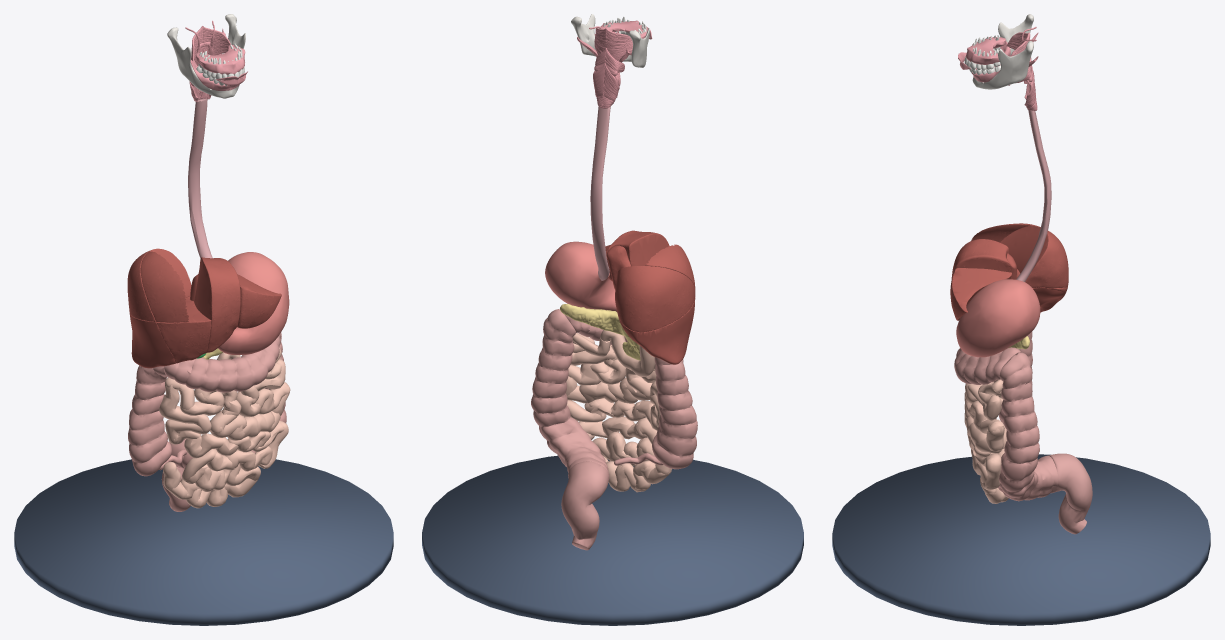
Rendered from DigestiveSystemFull.fbx.
3 views of the same model, side by side, from view 1: azimuth 30°, elevation 25°; view 2: azimuth 150°, elevation 25°; view 3: azimuth 270°, elevation 25° (orthographic).
Parts seen in each view (by area): view 1: Studio_Pedestal, Organ_Small_Intestine, Organ_Liver_Pancreas, Organ_Large_Intestine, Organ_Mouth_Esophagus, Organ_Stomach; view 2: Studio_Pedestal, Organ_Large_Intestine, Organ_Small_Intestine, Organ_Liver_Pancreas, Organ_Mouth_Esophagus, Organ_Stomach; view 3: Studio_Pedestal, Organ_Large_Intestine, Organ_Liver_Pancreas, Organ_Mouth_Esophagus, Organ_Stomach, Organ_Small_Intestine.
Part boxes in pixels (x1,y1,x2,y2): Studio_Pedestal: (14,459,393,625); Organ_Small_Intestine: (159,348,290,508); Organ_Liver_Pancreas: (127,248,281,368); Organ_Large_Intestine: (128,332,286,511); Organ_Mouth_Esophagus: (167,14,247,258); Organ_Stomach: (218,252,289,354); Studio_Pedestal: (422,455,803,625); Organ_Large_Intestine: (531,309,697,550); Organ_Small_Intestine: (566,330,671,492); Organ_Liver_Pancreas: (560,230,695,364); Organ_Mouth_Esophagus: (571,14,652,280); Organ_Stomach: (545,241,616,311); Studio_Pedestal: (832,454,1210,625); Organ_Large_Intestine: (954,331,1092,534); Organ_Liver_Pancreas: (950,223,1068,349); Organ_Mouth_Esophagus: (958,14,1051,281); Organ_Stomach: (956,279,1040,357); Organ_Small_Intestine: (964,348,1020,503).
Size of the model in its own units: 1.1 by 1.66 by 1.1.
